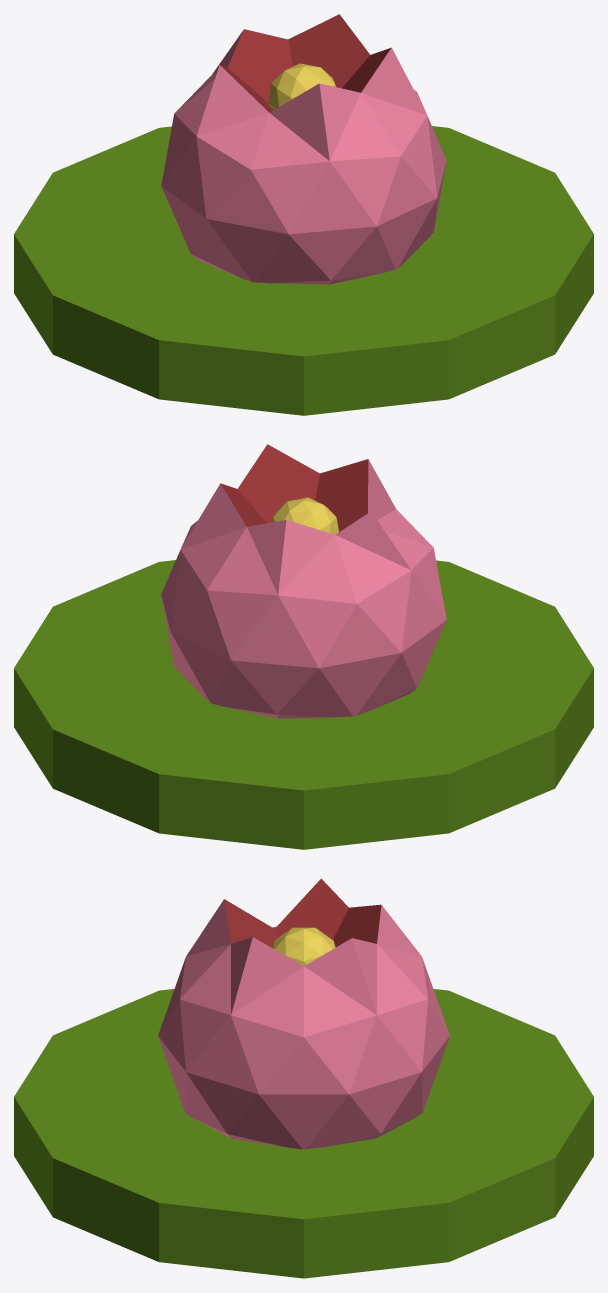
Rendered from floragua1.fbx.
The picture shows the model from 3 angles, top to bottom: view 1: azimuth 30°, elevation 25°; view 2: azimuth 150°, elevation 25°; view 3: azimuth 270°, elevation 25°; orthographic projection.
Visible parts, largest first — view 1: Icosphere.001; view 2: Icosphere.001; view 3: Icosphere.001.
Part boxes in pixels (bbox=[...]): Icosphere.001: bbox=[14, 14, 593, 415]; Icosphere.001: bbox=[14, 444, 593, 849]; Icosphere.001: bbox=[14, 878, 593, 1278].
Size of the model in its own units: 200 by 94.86 by 200.
